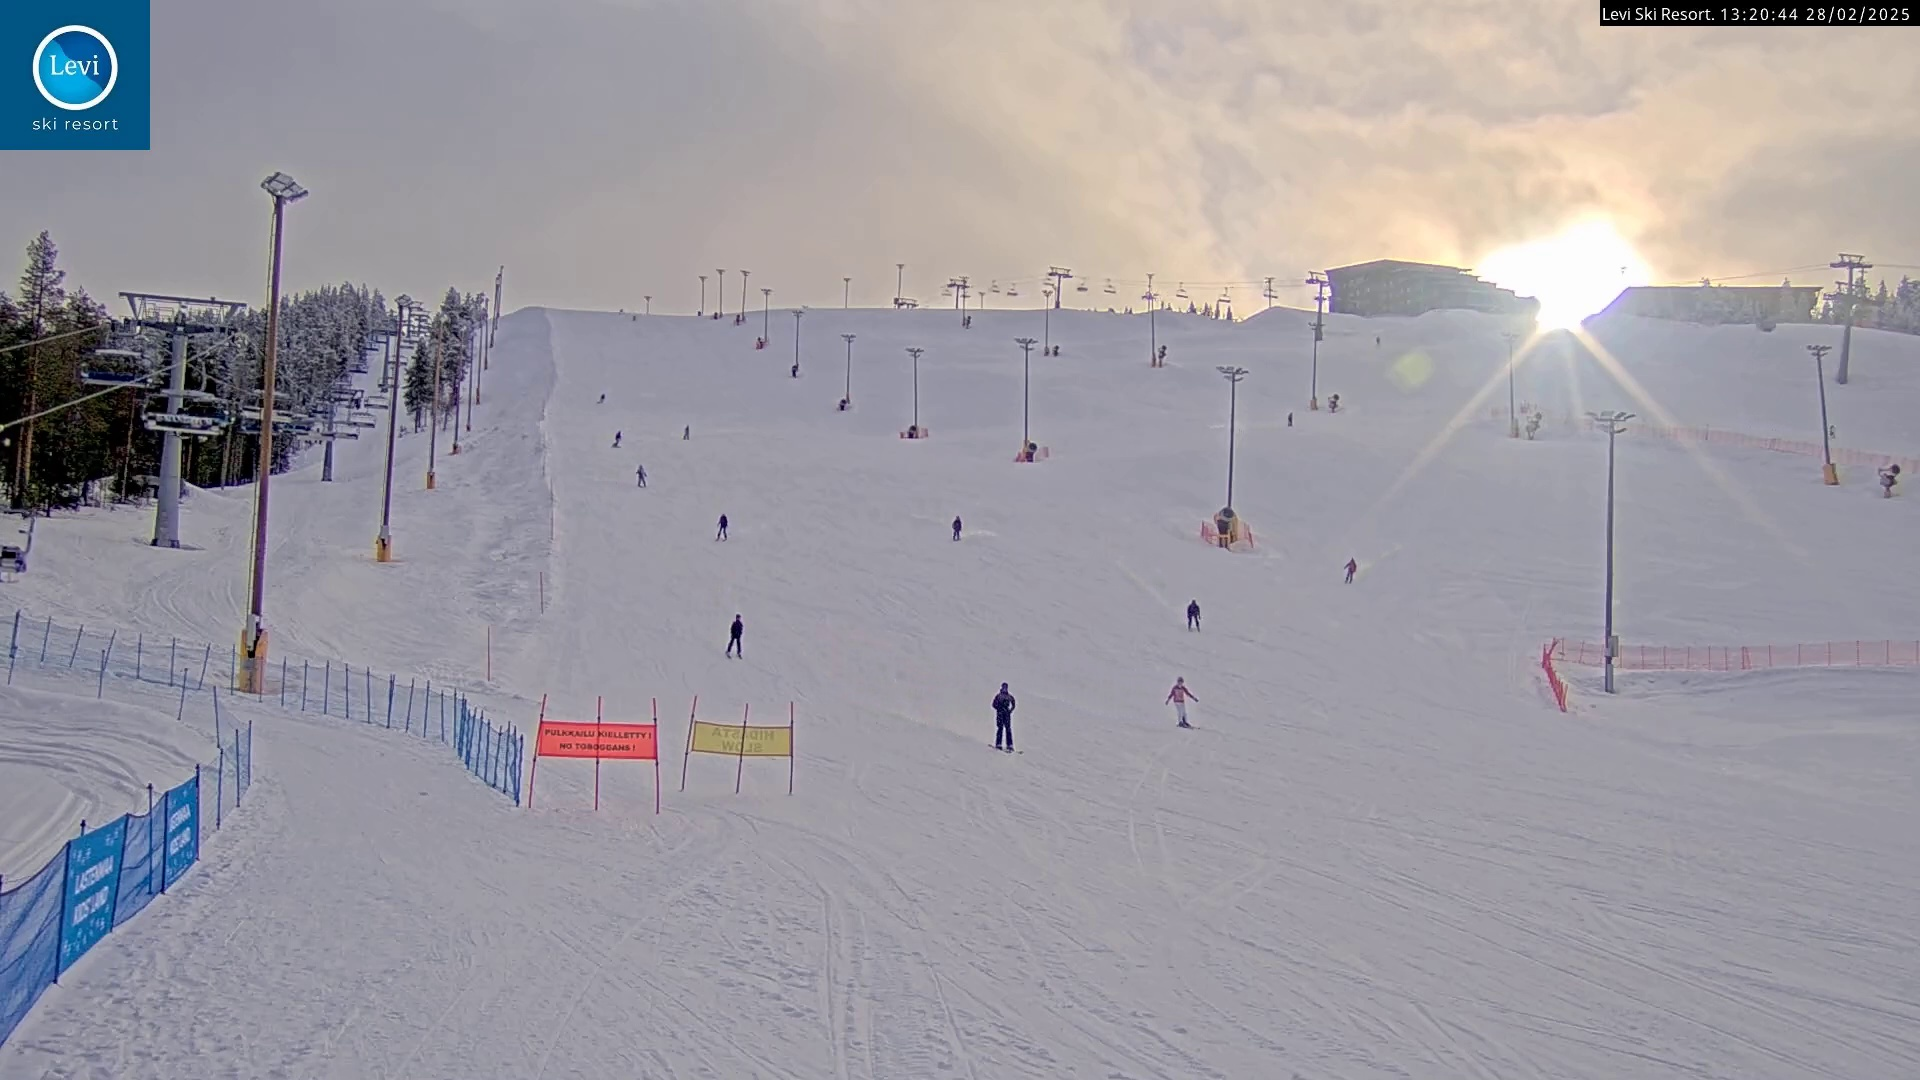skier: (984, 678, 1022, 757), (1164, 676, 1204, 733)
